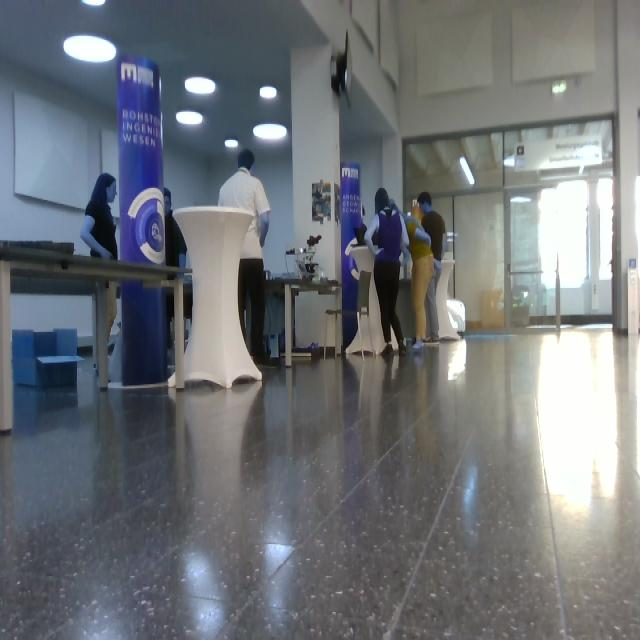door: (454, 191, 505, 331)
light bulb: (128, 188, 166, 265), (63, 34, 117, 64), (185, 76, 216, 96), (253, 124, 288, 141), (459, 156, 475, 186), (176, 111, 204, 127), (260, 85, 277, 100), (551, 80, 567, 94), (225, 138, 239, 149), (81, 1, 106, 6)
person: (218, 149, 271, 365), (80, 173, 119, 382), (364, 188, 412, 357), (417, 192, 448, 342), (404, 205, 435, 349), (163, 186, 188, 352)
pillar: (115, 54, 168, 388), (172, 205, 263, 389)
tiled floor: (1, 324, 640, 638)
window: (403, 113, 617, 333)
